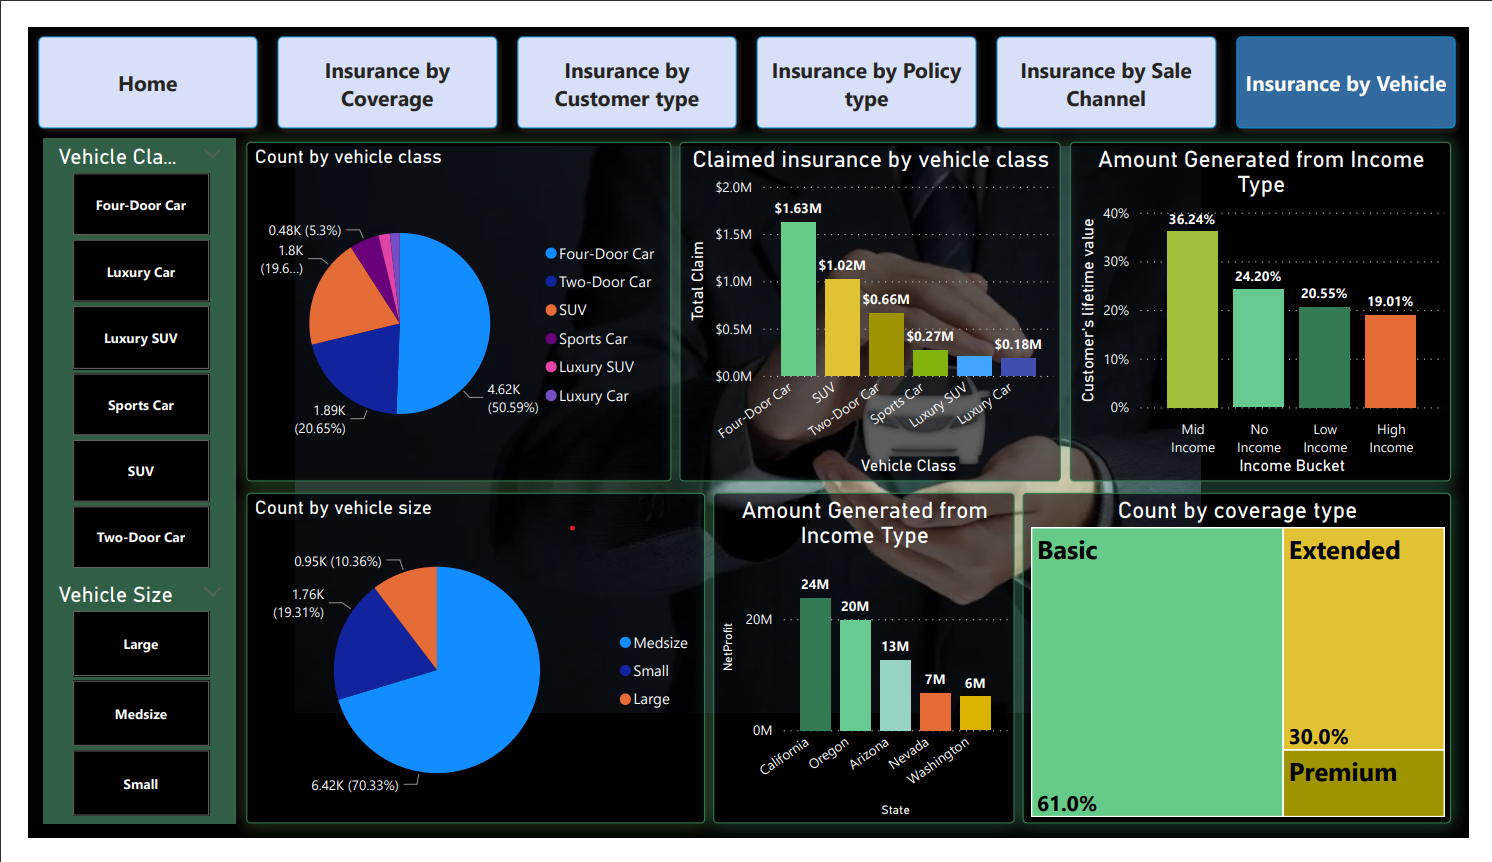

What the dashboard file says about the page in this screenshot:
{"tool":"powerbi","page":{"name":"Insurance by Vehicle","canvas":[1280,720],"ordinal":5},"visuals":[{"type":"pageNavigator","box":[0,0,1280.6,98.7],"z":0},{"type":"slicer","fields":{"Values":["AutoInsurance.Vehicle Class"]},"box":[13.9,98.8,170.8,389.3],"z":1000},{"type":"slicer","fields":{"Values":["AutoInsurance.Vehicle Size"]},"box":[13.9,488,170.8,219.6],"z":2000},{"type":"pieChart","title":"Count by vehicle class","fields":{"Y":["CountNonNull(AutoInsurance.Vehicle Class)"],"Category":["AutoInsurance.Vehicle Class"]},"box":[194,102.3,377.6,302.1],"z":3000},{"type":"pieChart","title":"Count by vehicle size","fields":{"Y":["CountNonNull(AutoInsurance.Vehicle Size)"],"Category":["AutoInsurance.Vehicle Size"]},"box":[194,413.7,407.8,294],"z":4000},{"type":"columnChart","title":"Amount Generated from Income Type","fields":{"Category":["AutoInsurance 2.Income Bucket"],"Y":["Sum(AutoInsurance.Customer Lifetime Value)"]},"box":[926.1,102.3,339.3,302.1],"z":5000},{"type":"treemap","title":"Count by coverage type","fields":{"Group":["AutoInsurance.Coverage"],"Values":["CountNonNull(AutoInsurance.Coverage)"]},"box":[884.2,413.7,381.1,294],"z":6000},{"type":"columnChart","title":"Claimed insurance by vehicle class","fields":{"Y":["Sum(AutoInsurance.Total Claim Amount)"],"Category":["AutoInsurance.Vehicle Class"]},"box":[578.7,102.3,339.3,302.1],"z":7000},{"type":"columnChart","title":"Amount Generated from Income Type","fields":{"Y":["AutoInsurance.NetProfit"],"Category":["AutoInsurance.State"]},"box":[608.9,413.7,268.4,294],"z":8000}]}

Visuals, with their boxes in screenshot pixels (x1, y1, x2, y2), scaled from the page's 1280x720 canvas onto the 1492x862 screenshot:
pageNavigator: x1=0, y1=0, x2=1491, y2=118
slicer - AutoInsurance.Vehicle Class: x1=16, y1=118, x2=215, y2=584
slicer - AutoInsurance.Vehicle Size: x1=16, y1=584, x2=215, y2=847
"Count by vehicle class" pieChart: x1=226, y1=122, x2=666, y2=484
"Count by vehicle size" pieChart: x1=226, y1=495, x2=701, y2=847
"Amount Generated from Income Type" columnChart: x1=1079, y1=122, x2=1475, y2=484
"Count by coverage type" treemap: x1=1031, y1=495, x2=1475, y2=847
"Claimed insurance by vehicle class" columnChart: x1=675, y1=122, x2=1070, y2=484
"Amount Generated from Income Type" columnChart: x1=710, y1=495, x2=1023, y2=847
